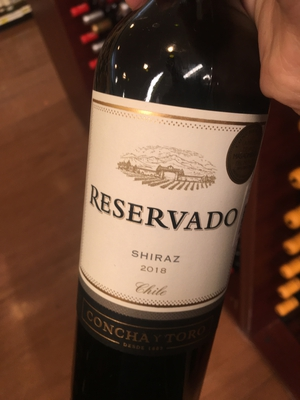reservado shiraz: (86, 17, 255, 400)
